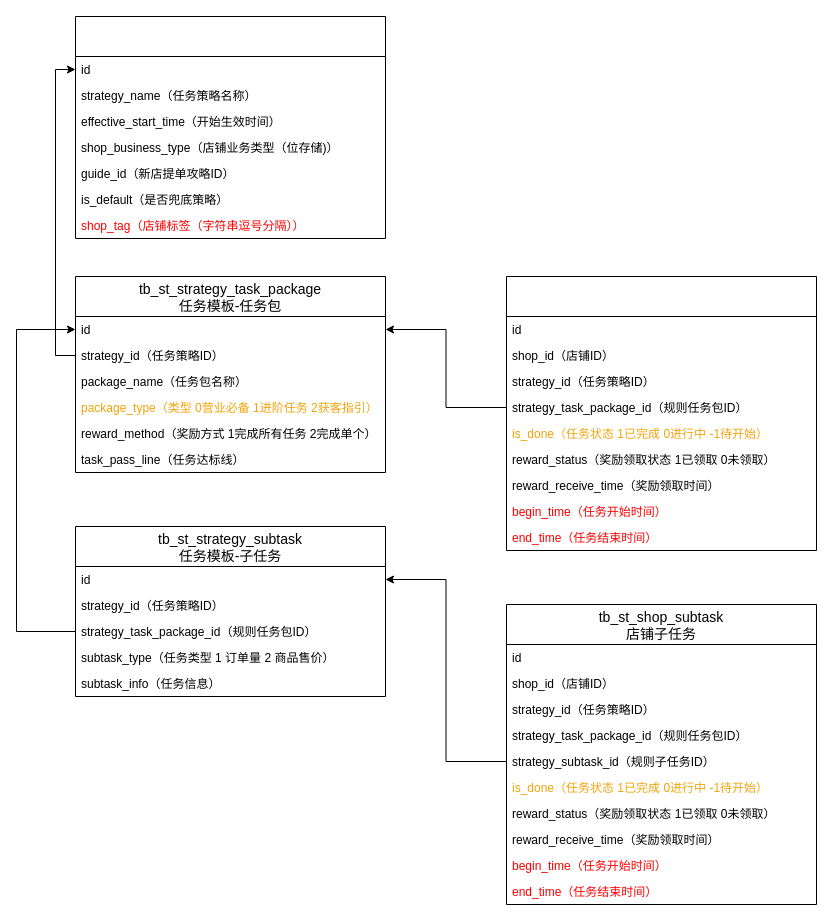
Image size: 833x921. Some labels were removed from this diagram. Here are the shapes that lost their labels. From the top down, the box of each, then its label:
(74, 16, 386, 238): tb_st_strategy 任务规则-主表
(506, 276, 816, 550): tb_st_shop_task 店铺任务包
